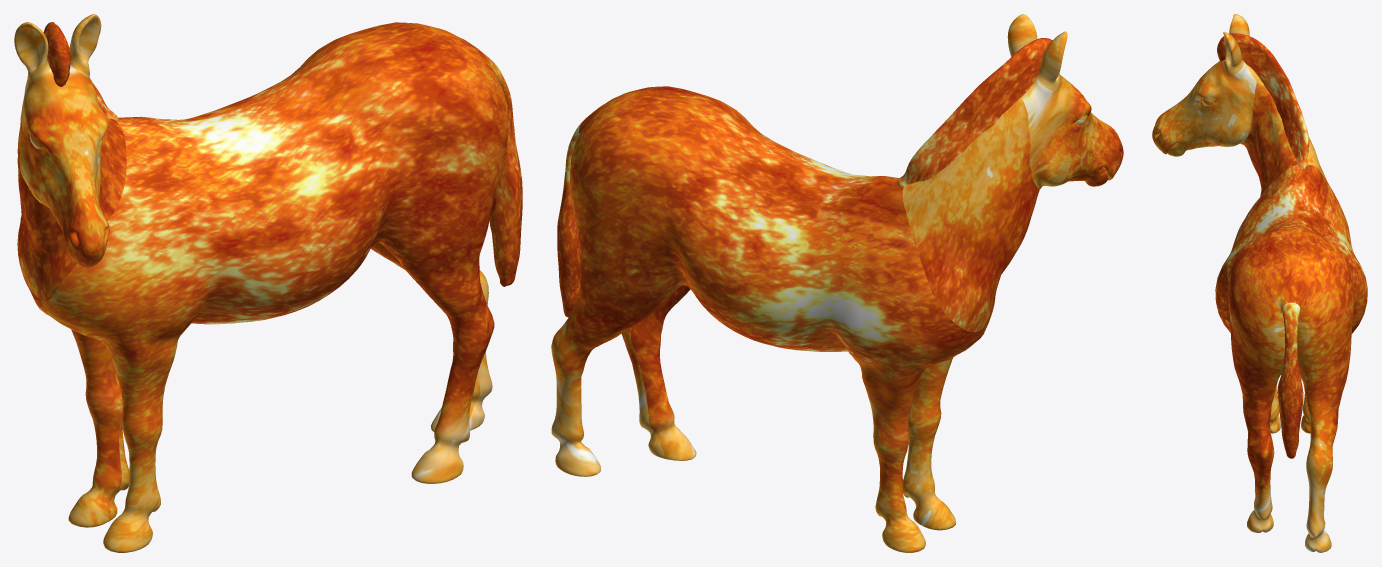
The model's file is zebra.obj.
The picture shows the model from 3 angles, left to right: view 1: azimuth 30°, elevation 25°; view 2: azimuth 150°, elevation 25°; view 3: azimuth 270°, elevation 25°; orthographic projection. The views are drawn at different scales.
Visible parts, largest first — view 1: obj1; view 2: obj1; view 3: obj1.
Part boxes in pixels (left/top/right/bottom): obj1: left=14, top=14, right=522, bottom=552; obj1: left=551, top=14, right=1123, bottom=552; obj1: left=1152, top=14, right=1367, bottom=552.
Bounding box in the file's own units: 0.1792 × 0.1793 × 0.0933.
